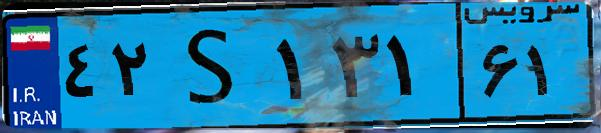1: (270, 28, 330, 110), (385, 28, 445, 110), (525, 38, 570, 115)
2: (110, 28, 158, 98)
3: (330, 28, 385, 110)
4: (57, 26, 110, 100)
6: (475, 38, 525, 113)
S: (158, 12, 270, 120)
